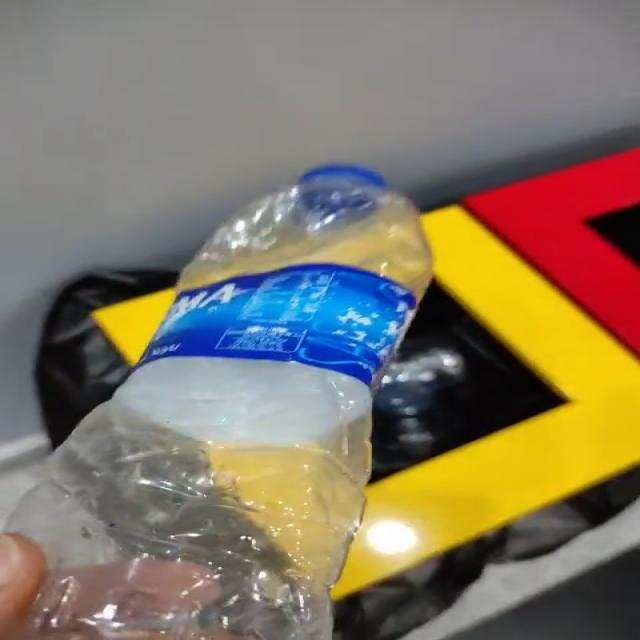plastic: (15, 164, 433, 640)
